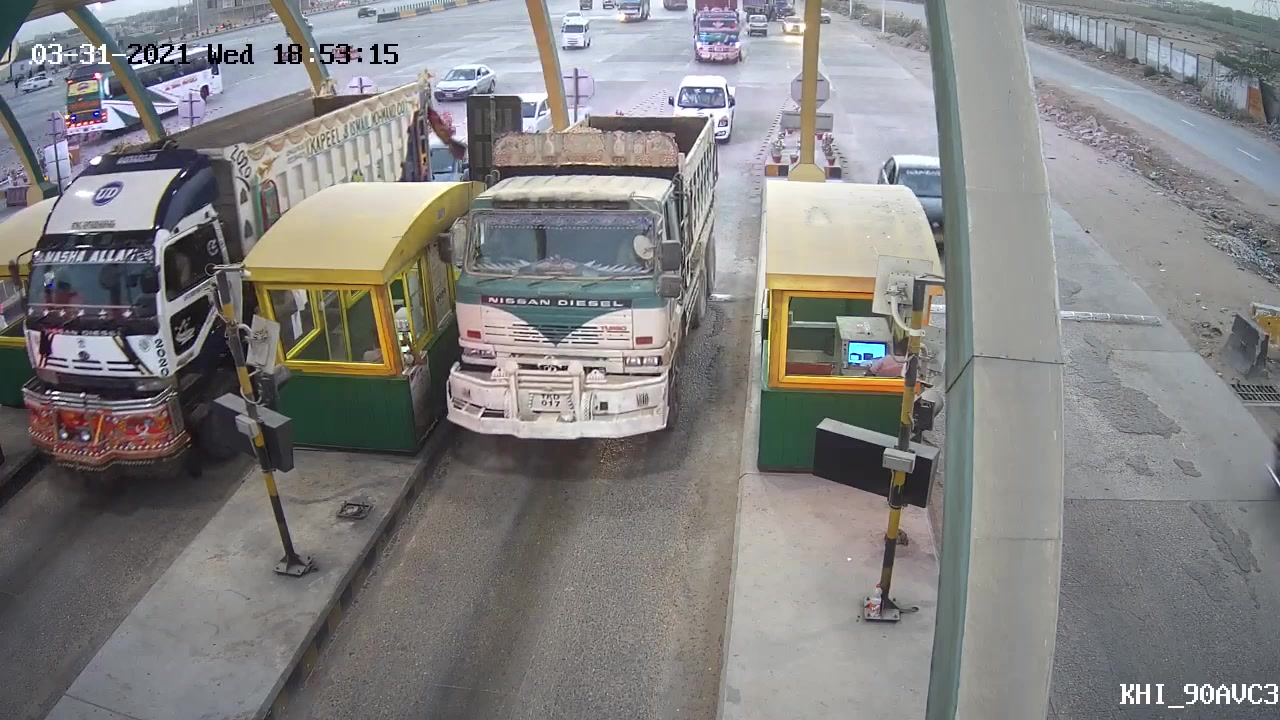F5: (435, 108, 730, 449)
